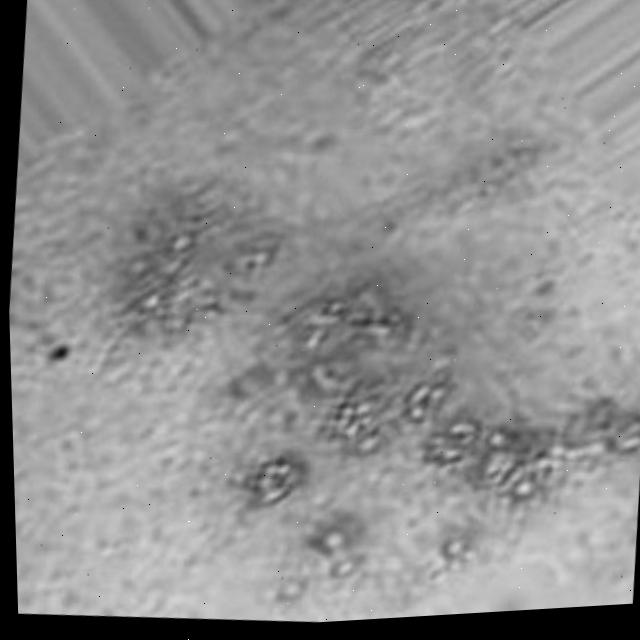Shingles: (221, 264, 640, 609), (94, 168, 285, 345)
